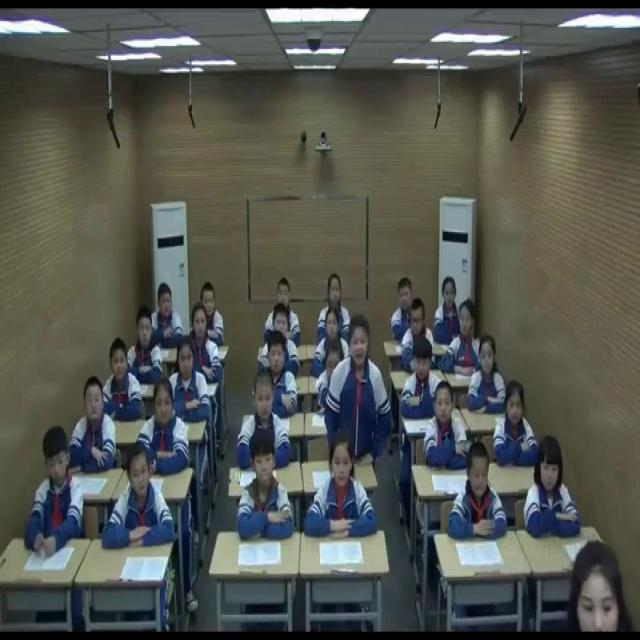focused: (329, 322, 390, 465), (104, 448, 176, 554), (27, 422, 84, 553), (304, 435, 374, 539), (525, 429, 584, 541), (235, 435, 296, 543), (449, 441, 510, 543), (237, 372, 294, 472), (138, 380, 193, 475), (70, 374, 121, 475), (396, 342, 449, 428), (493, 378, 542, 470), (100, 338, 150, 427), (424, 384, 475, 470), (168, 334, 210, 426), (470, 328, 510, 416), (446, 301, 485, 385), (260, 335, 301, 413), (127, 306, 163, 385), (262, 279, 301, 350), (187, 304, 222, 381), (309, 313, 350, 376), (263, 307, 299, 370), (436, 273, 466, 348), (316, 278, 354, 337), (400, 301, 433, 367), (150, 288, 183, 352), (198, 284, 227, 350), (318, 340, 348, 403), (391, 273, 418, 337)
